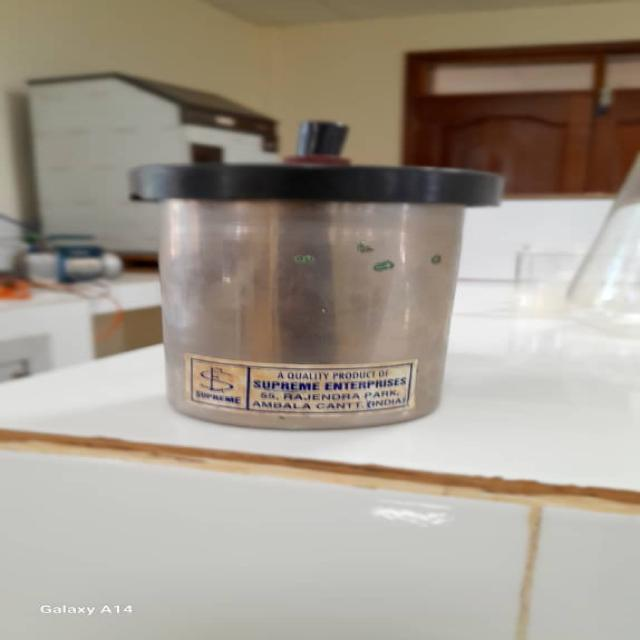Calorimeter: (114, 113, 519, 430)
